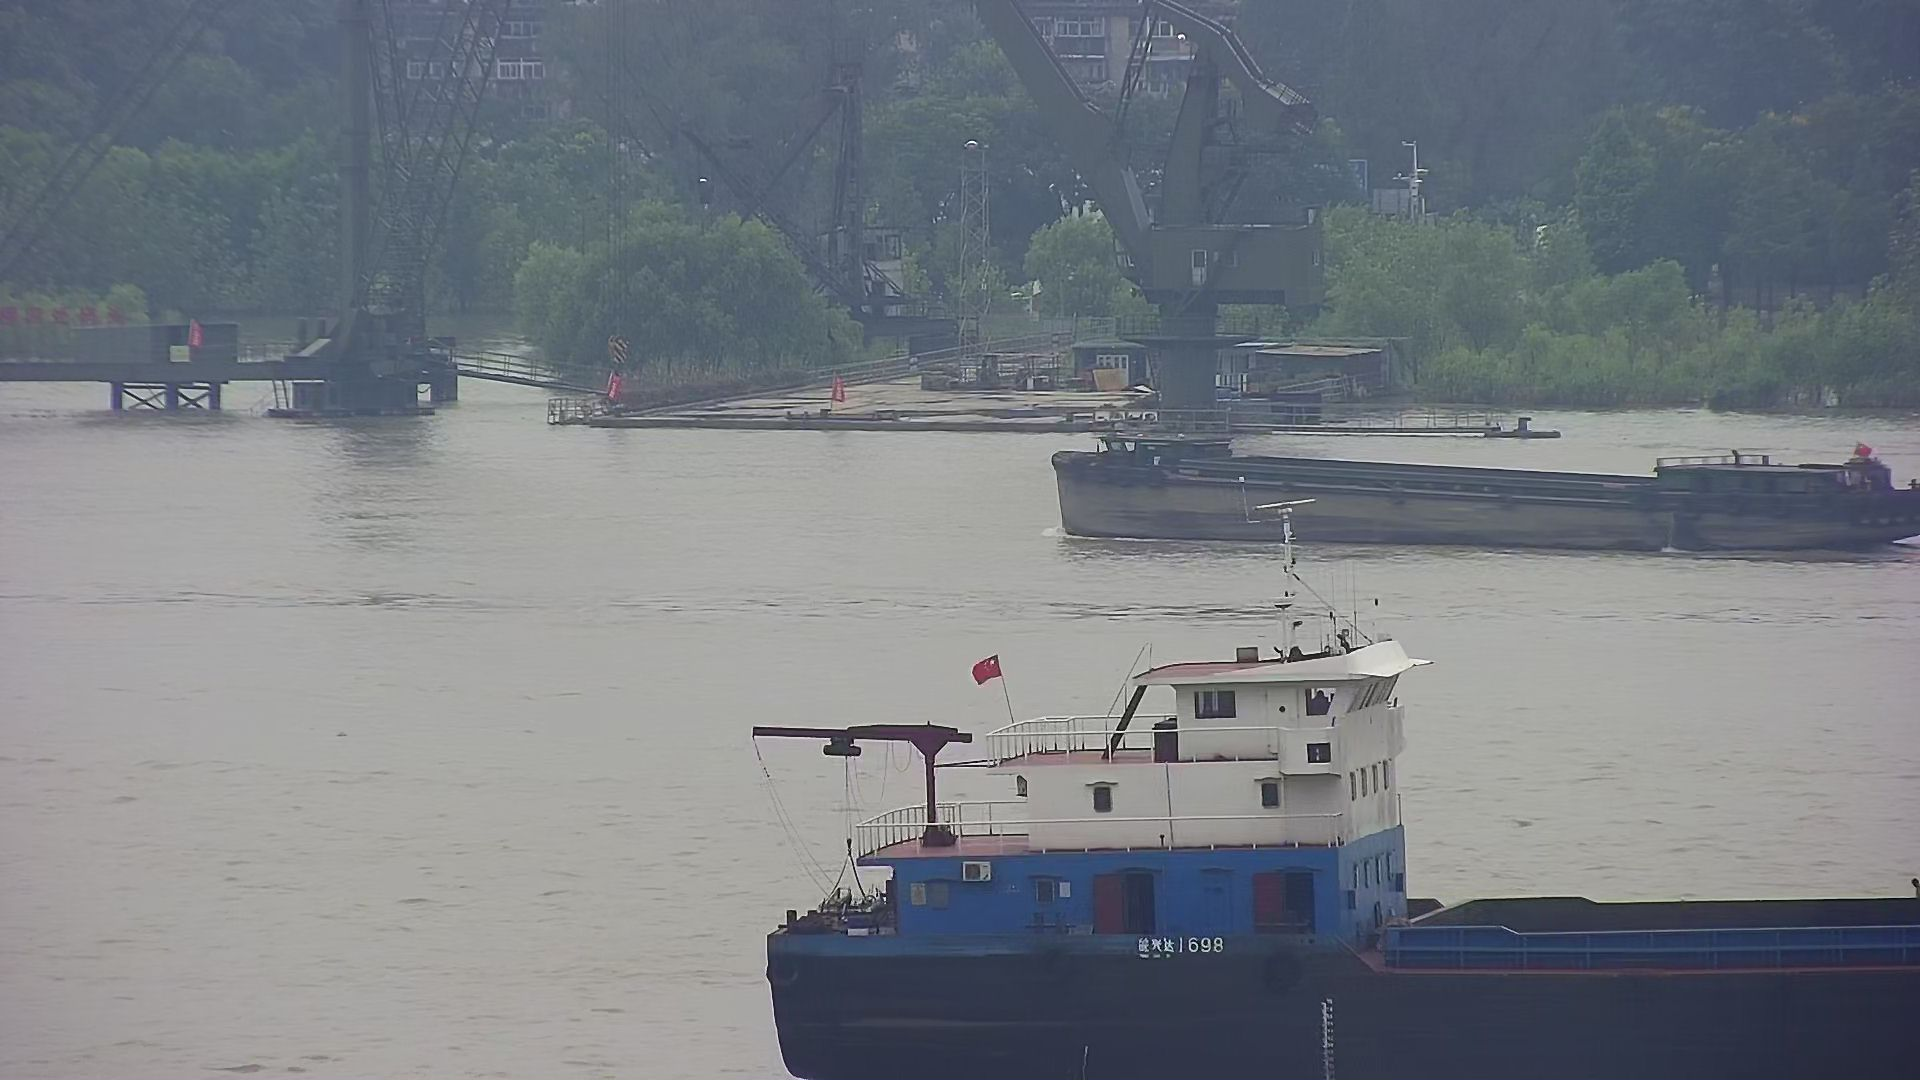platform: (1, 1, 496, 429)
ship: (687, 473, 1920, 1080), (1033, 435, 1920, 564)
